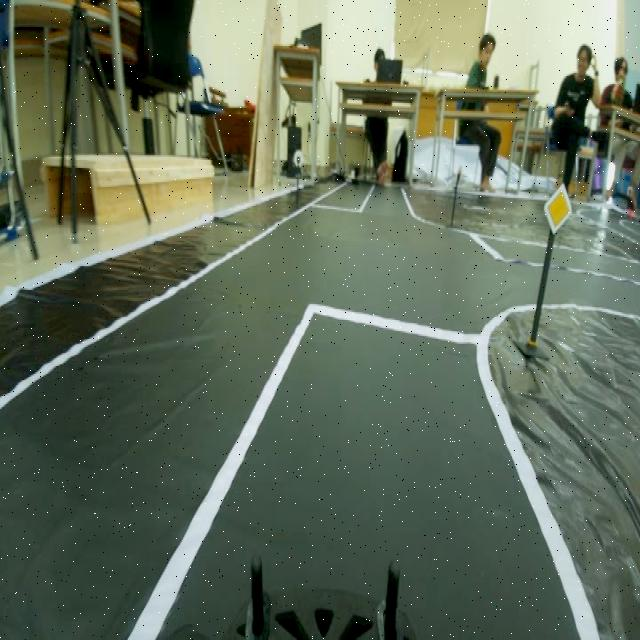priority: (539, 171, 577, 241)
